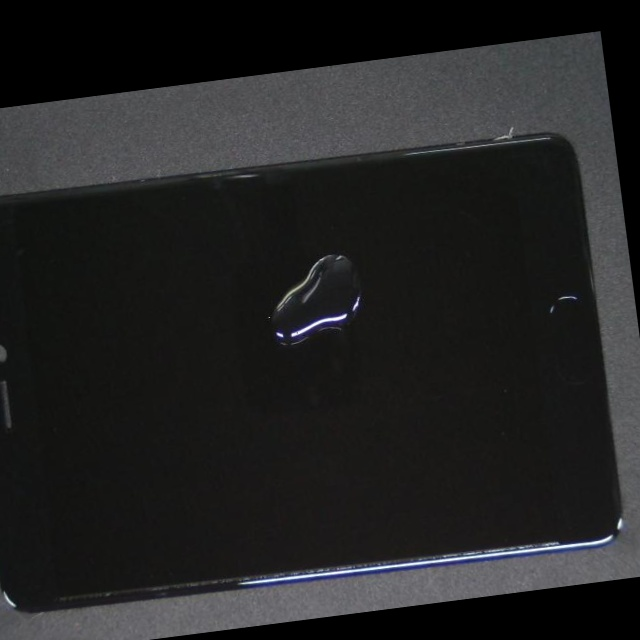oil: (97, 159, 451, 452)
